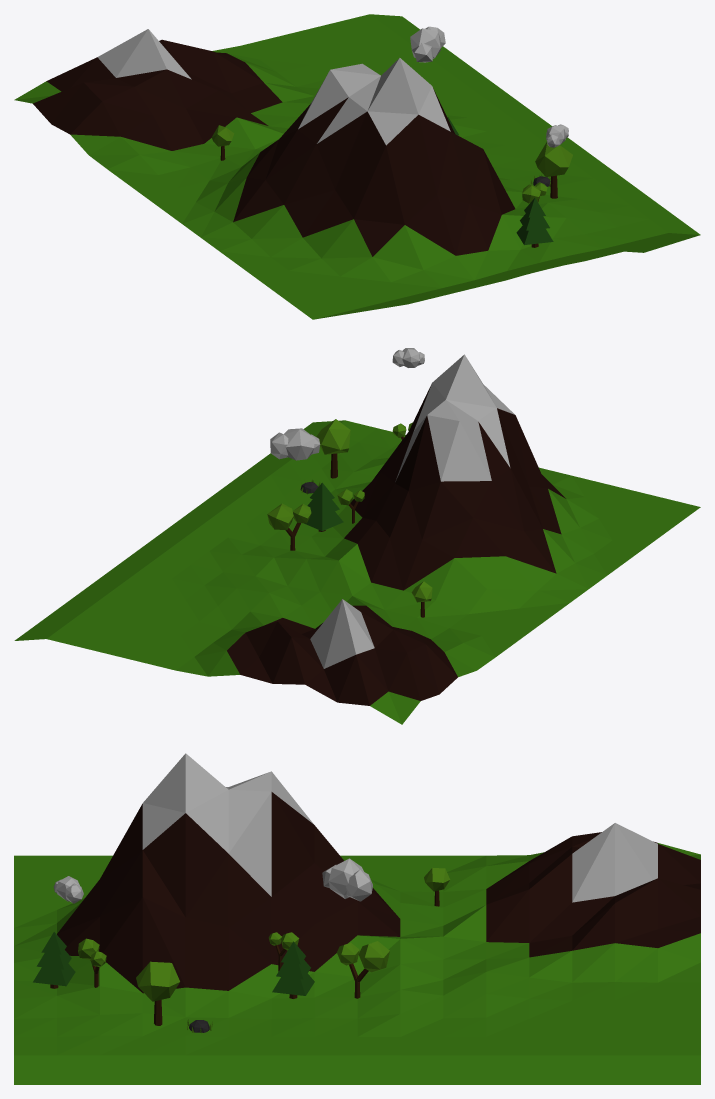
The model's file is Land3.FBX.
The picture shows the model from 3 angles, top to bottom: view 1: azimuth 30°, elevation 25°; view 2: azimuth 150°, elevation 25°; view 3: azimuth 270°, elevation 25°; orthographic projection. The views are drawn at different scales.
Parts seen in each view (by area): view 1: ÐŸÐ_Ð_Ñ_Ð_Ð_Ð_, Cone_001, Icosphere, Icosphere_002_Icosphere_006; view 2: ÐŸÐ_Ð_Ñ_Ð_Ð_Ð_, Icosphere_002_Icosphere_006, Cone, Icosphere, Cylinder_Cylinder_002; view 3: ÐŸÐ_Ð_Ñ_Ð_Ð_Ð_, Icosphere, Icosphere_002_Icosphere_006, Cone, Cone_001, Cylinder_Cylinder_002, Cylinder_001_Cylinder_000, Icosphere_003_Icosphere_007, Icosphere_001_Icosphere_004.
Boxes of the visible parts, bbox=[...] form: ÐŸÐ_Ð_Ñ_Ð_Ð_Ð_: bbox=[14, 14, 700, 319]; Cone_001: bbox=[516, 198, 553, 247]; Icosphere: bbox=[535, 141, 572, 198]; Icosphere_002_Icosphere_006: bbox=[410, 26, 445, 62]; ÐŸÐ_Ð_Ñ_Ð_Ð_Ð_: bbox=[14, 354, 700, 724]; Icosphere_002_Icosphere_006: bbox=[270, 428, 320, 460]; Cone: bbox=[304, 482, 343, 531]; Icosphere: bbox=[316, 419, 350, 478]; Cylinder_Cylinder_002: bbox=[267, 503, 311, 550]; ÐŸÐ_Ð_Ñ_Ð_Ð_Ð_: bbox=[14, 753, 700, 1084]; Icosphere: bbox=[136, 961, 179, 1025]; Icosphere_002_Icosphere_006: bbox=[322, 858, 372, 901]; Cone: bbox=[272, 941, 314, 998]; Cone_001: bbox=[33, 932, 75, 988]; Cylinder_Cylinder_002: bbox=[337, 941, 389, 998]; Cylinder_001_Cylinder_000: bbox=[78, 938, 106, 987]; Icosphere_003_Icosphere_007: bbox=[53, 876, 83, 903]; Icosphere_001_Icosphere_004: bbox=[424, 868, 450, 906].
Size of the model in its own units: 11.32 by 5.08 by 15.09.
